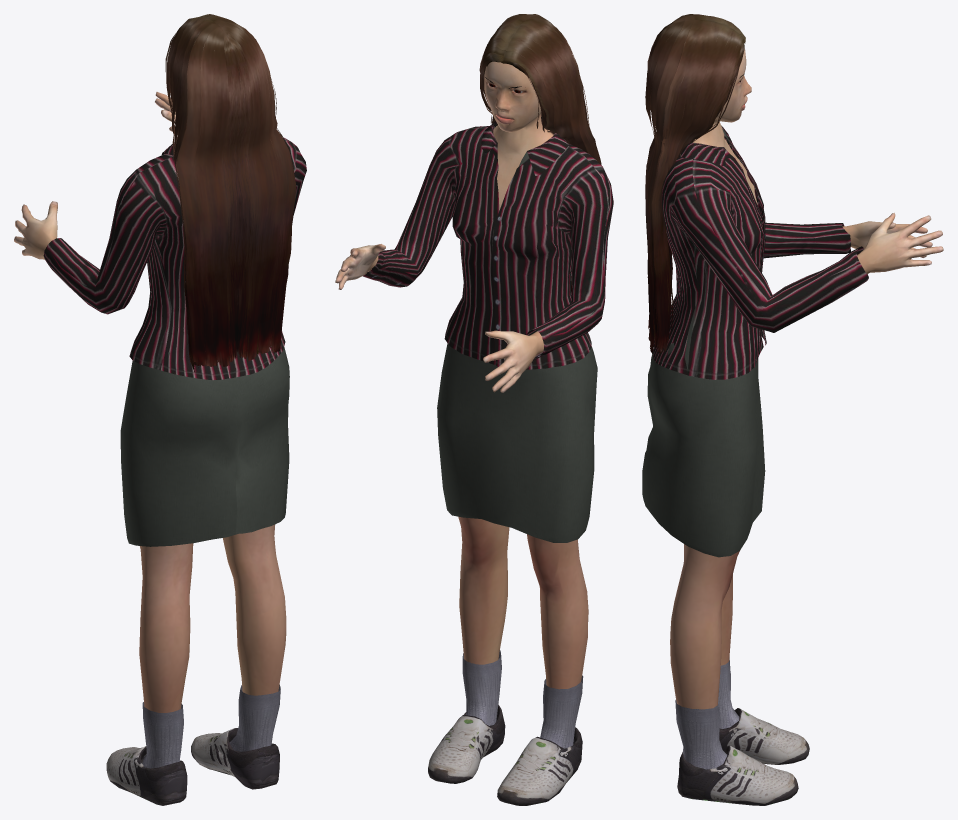
The model's file is talking_2.gltf.
3 views of the same model, side by side, from view 1: azimuth 30°, elevation 25°; view 2: azimuth 150°, elevation 25°; view 3: azimuth 270°, elevation 25° (orthographic). The views are drawn at different scales.
Visible parts, largest first — view 1: talking; view 2: talking; view 3: talking.
Boxes of the visible parts, x1=… form: talking: x1=14, y1=14, x2=306, y2=805; talking: x1=335, y1=14, x2=613, y2=805; talking: x1=642, y1=14, x2=943, y2=805.
Size of the model in its own units: 0.4849 by 1.71 by 0.6166.
6 materials, 6 textured.
